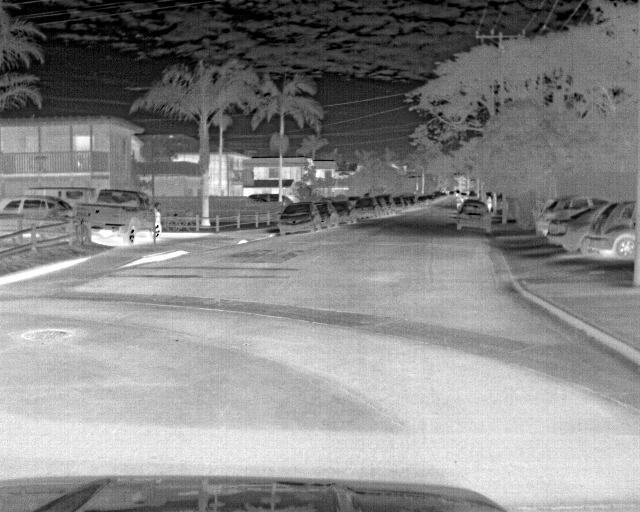car: (78, 187, 160, 242), (533, 194, 608, 238), (579, 200, 639, 254), (548, 206, 603, 255), (452, 197, 492, 234), (3, 195, 73, 216), (277, 203, 320, 236), (347, 197, 378, 219), (312, 201, 338, 227), (326, 201, 353, 223), (378, 191, 396, 215), (393, 195, 405, 212)
